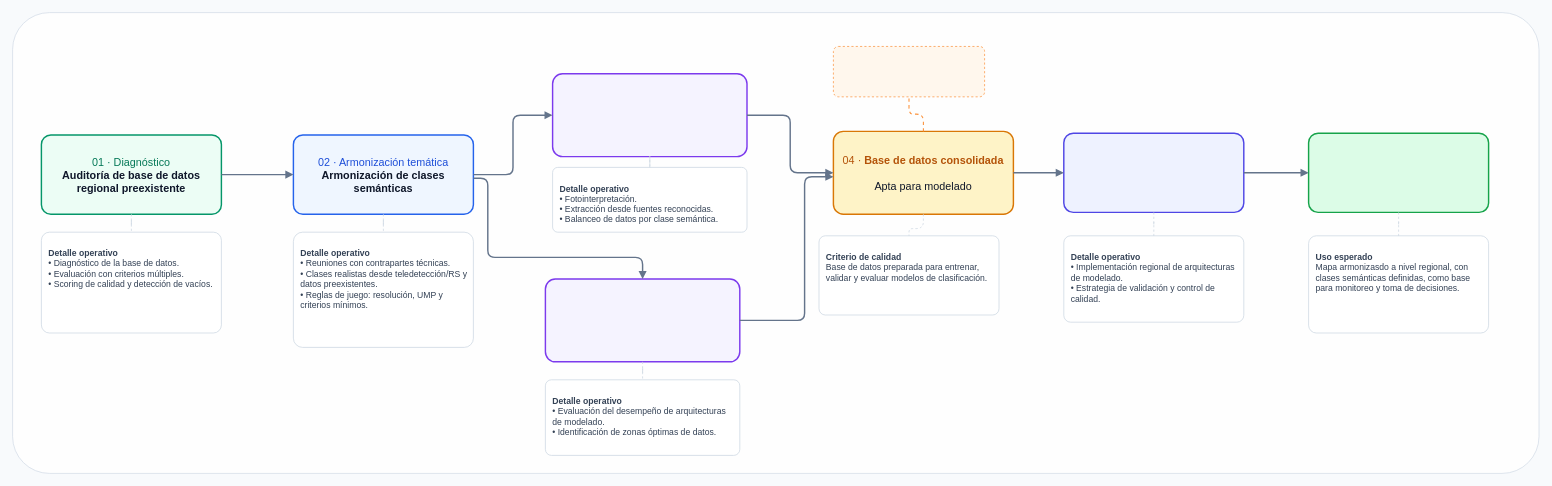
The diagram is 1552 pixels wide and 486 high, and some of its shapes have lost their labels. The centre of each missing label's shape, as x and y in pixels:
"03A · Complementación Estrategias de llenado de vacíos de información" belongs at point (649, 115).
"03B · Experimentación Pruebas piloto de modelado" belongs at point (642, 320).
"05 · Modelado de línea base forestal" belongs at point (1153, 172).
"06 · Producto final Línea base forestal 2020" belongs at point (1398, 172).
"Contexto institucional Existe interés de diversos actores regionales." belongs at point (909, 71).
